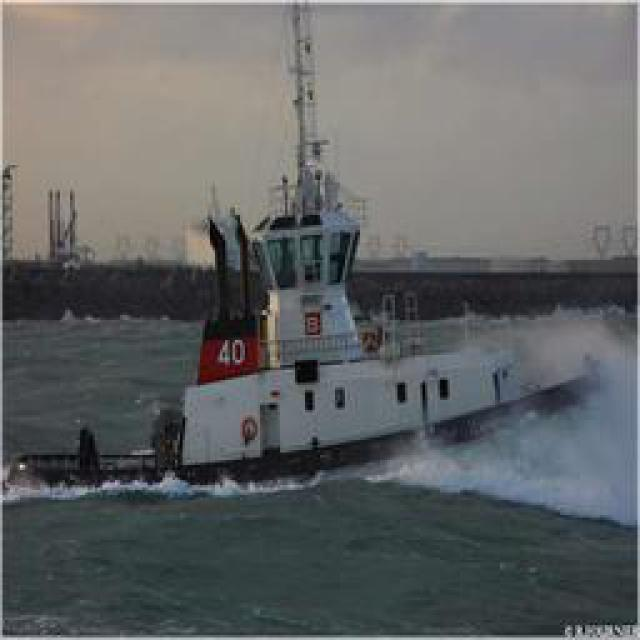Ship: (172, 63, 622, 481)
